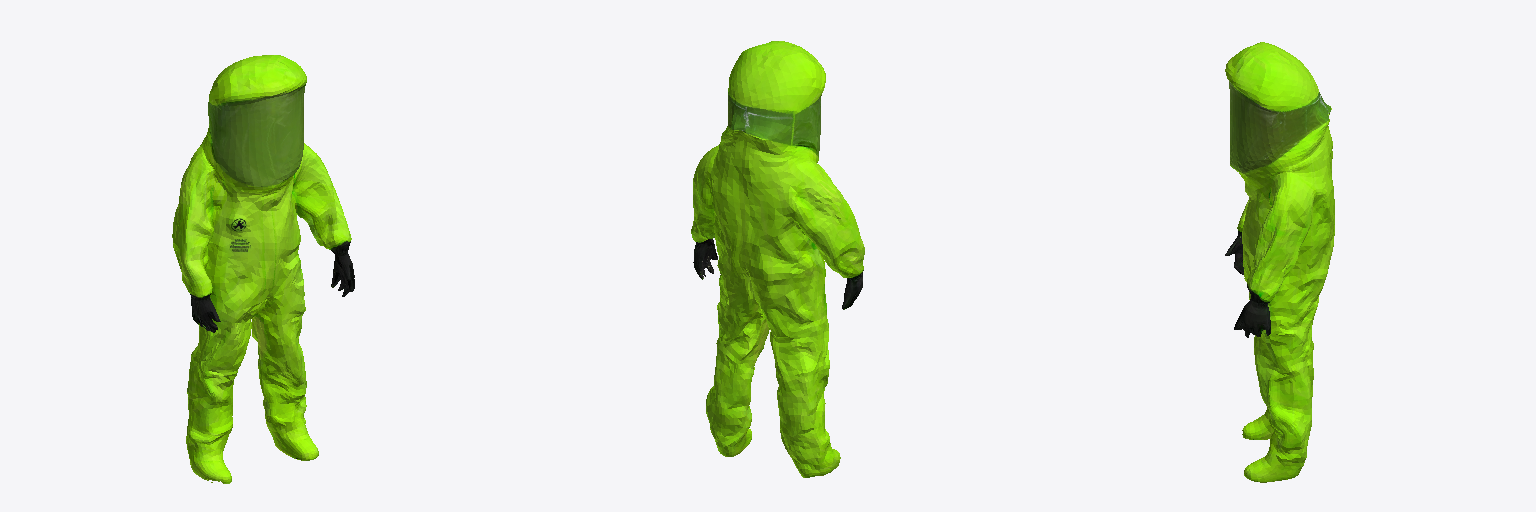
3 views of the same model, side by side, from view 1: azimuth 30°, elevation 25°; view 2: azimuth 150°, elevation 25°; view 3: azimuth 270°, elevation 25° (orthographic).
Parts seen in each view (by area): view 1: Hazmat_Suit_Illustrat_[number redacted]_texture; view 2: Hazmat_Suit_Illustrat_[number redacted]_texture; view 3: Hazmat_Suit_Illustrat_[number redacted]_texture.
Boxes of the visible parts, x1=… form: Hazmat_Suit_Illustrat_[number redacted]_texture: x1=172, y1=55, x2=354, y2=483; Hazmat_Suit_Illustrat_[number redacted]_texture: x1=691, y1=41, x2=864, y2=477; Hazmat_Suit_Illustrat_[number redacted]_texture: x1=1225, y1=42, x2=1334, y2=482.
Size of the model in its own units: 0.8621 by 2 by 0.4915.
Materials: 1 (1 with a texture image).